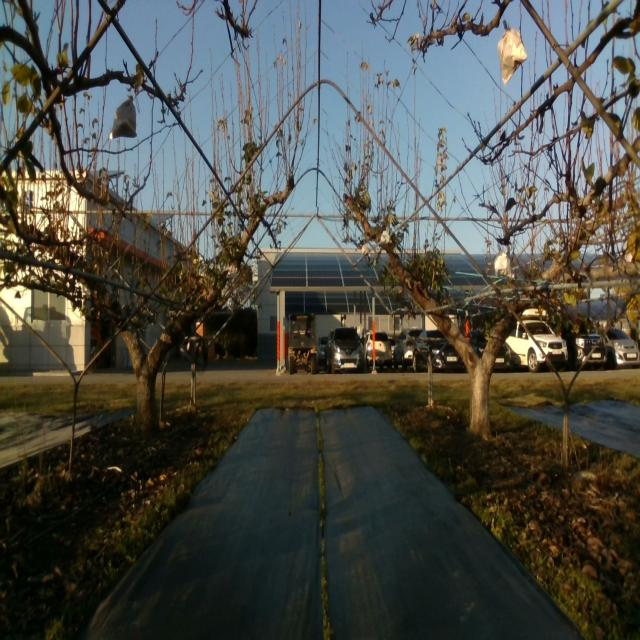pearbags: (498, 16, 528, 84), (108, 94, 137, 138), (494, 244, 512, 278)
